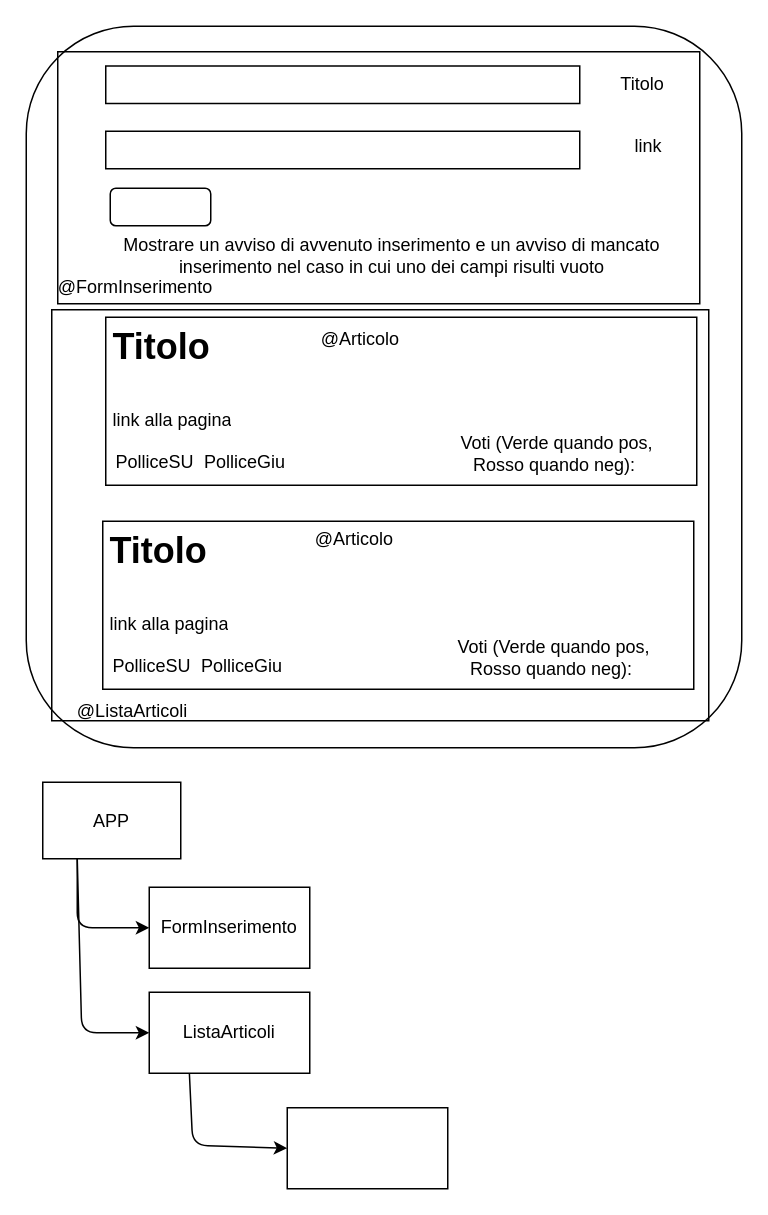
Image size: 768x1215. Some labels were removed from this diagram. Each missing label, with the centre of its shape:
Articolo: the point at 367,1147
Invia: the point at 160,206
